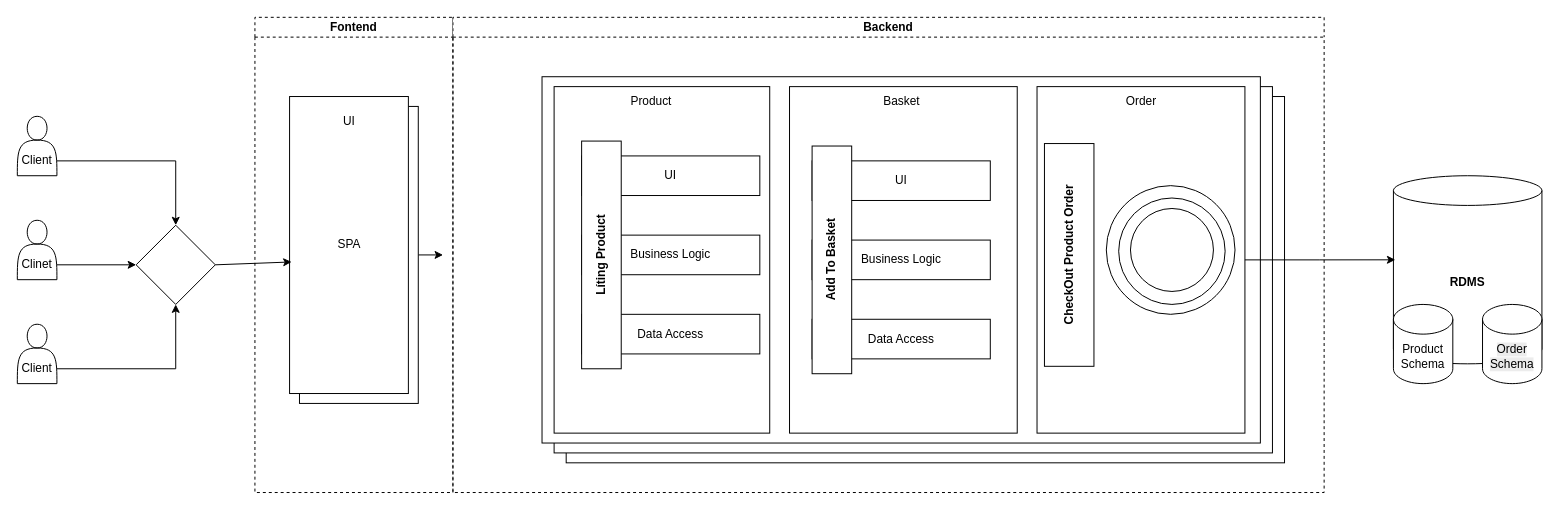
Image size: 1559x510. Some labels were removed from this diagram. Here are the shapes that lost their labels. From the top down, the centre of each, then its label:
At (175,264): "Load Balancer".
At (1171,249): "Clean Architechure".
